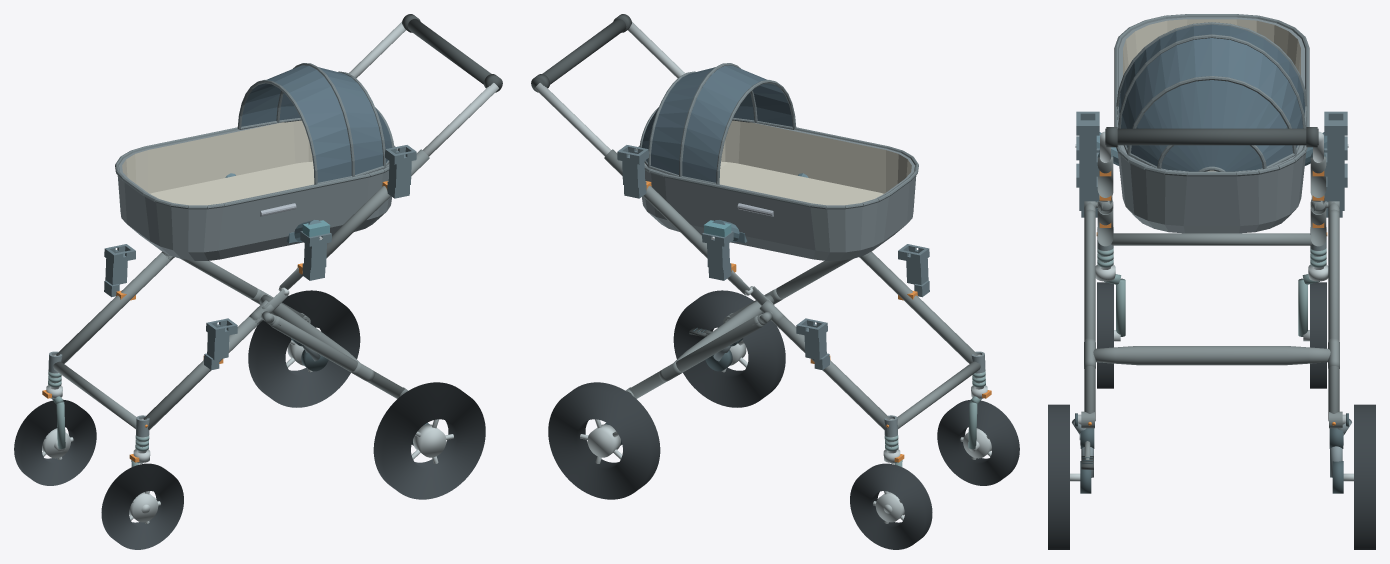
Rendered from S06_w550_state1_wheel_M.glb.
3 views of the same model, side by side, from view 1: azimuth 30°, elevation 25°; view 2: azimuth 150°, elevation 25°; view 3: azimuth 270°, elevation 25° (orthographic). The views are drawn at different scales.
Parts seen in each view (by area): view 1: S06_Cabin, RL_tire.002, RR_tire.002, FL_tire.002, FR_tire.002, main_lower_1.003, V46_rear_leg_-1.003, main_lower_-1.003, round_handle.002, main_upper_-1.003, Universal_Cabin_Receiver_H_-1, Universal_Cabin_Receiver_L_-1 (+10 smaller); view 2: S06_Cabin, RR_tire.002, RL_tire.002, FR_tire.002, FL_tire.002, main_lower_-1.003, V46_rear_leg_1.003, main_lower_1.003, round_handle.002, main_upper_1.003, Universal_Cabin_Receiver_H_1, Universal_Cabin_Receiver_L_1 (+10 smaller); view 3: S06_Cabin, V46_rearbar.003, round_handle.002, RL_tire.002, RR_tire.002, front_fixed_round_tube.002, V46_rear_leg_1.003, V46_rear_leg_-1.003, FL_tire.002, FR_tire.002, Universal_Cabin_Receiver_H_1, Universal_Cabin_Receiver_H_-1 (+8 smaller).
Boxes of the visible parts, <box> form: S06_Cabin: <box>115,63,397,260</box>; RL_tire.002: <box>373,382,485,499</box>; RR_tire.002: <box>248,290,360,407</box>; FL_tire.002: <box>101,463,183,549</box>; FR_tire.002: <box>14,399,96,485</box>; main_lower_1.003: <box>56,252,172,363</box>; V46_rear_leg_-1.003: <box>270,315,404,398</box>; main_lower_-1.003: <box>143,316,261,430</box>; round_handle.002: <box>407,19,501,90</box>; main_upper_-1.003: <box>326,149,429,258</box>; Universal_Cabin_Receiver_H_-1: <box>385,145,416,198</box>; Universal_Cabin_Receiver_L_-1: <box>204,318,237,370</box>; S06_Cabin: <box>636,63,918,260</box>; RR_tire.002: <box>548,382,660,499</box>; RL_tire.002: <box>673,290,785,407</box>; FR_tire.002: <box>850,463,932,549</box>; FL_tire.002: <box>937,399,1019,485</box>; main_lower_-1.003: <box>861,252,977,363</box>; V46_rear_leg_1.003: <box>629,315,763,398</box>; main_lower_1.003: <box>772,316,890,430</box>; round_handle.002: <box>532,19,626,90</box>; main_upper_1.003: <box>604,149,707,258</box>; Universal_Cabin_Receiver_H_1: <box>617,145,648,198</box>; Universal_Cabin_Receiver_L_1: <box>796,318,829,370</box>; S06_Cabin: <box>1114,14,1309,233</box>; V46_rearbar.003: <box>1093,346,1330,365</box>; round_handle.002: <box>1105,128,1318,145</box>; RL_tire.002: <box>1048,404,1069,549</box>; RR_tire.002: <box>1354,404,1375,549</box>; front_fixed_round_tube.002: <box>1111,233,1312,245</box>; V46_rear_leg_1.003: <box>1328,209,1339,421</box>; V46_rear_leg_-1.003: <box>1084,209,1095,421</box>; FL_tire.002: <box>1097,282,1113,388</box>; FR_tire.002: <box>1310,282,1326,388</box>; Universal_Cabin_Receiver_H_1: <box>1324,111,1347,176</box>; Universal_Cabin_Receiver_H_-1: <box>1076,111,1099,176</box>.
Bounding box in the file's own units: 1.16 × 1.09 × 0.6771.
